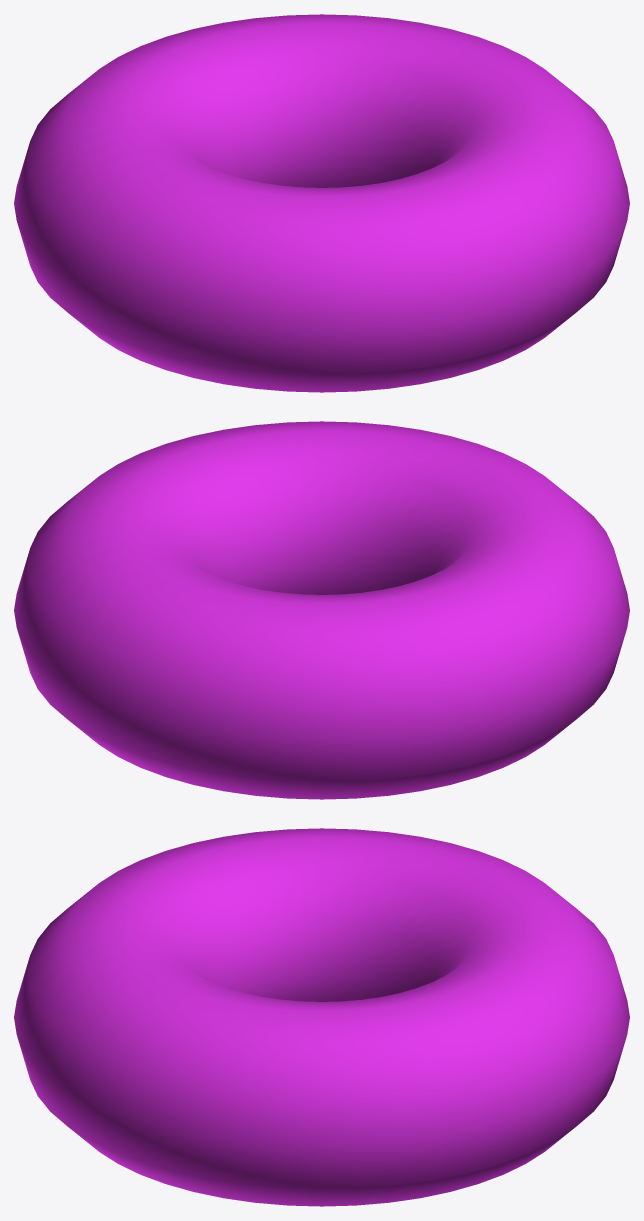
3 views of the same model, one above another, from view 1: azimuth 30°, elevation 25°; view 2: azimuth 150°, elevation 25°; view 3: azimuth 270°, elevation 25° (orthographic).
Parts seen in each view (by area): view 1: Torus.001; view 2: Torus.001; view 3: Torus.001.
Boxes of the visible parts, x1=… form: Torus.001: x1=14, y1=14, x2=629, y2=392; Torus.001: x1=14, y1=421, x2=629, y2=799; Torus.001: x1=14, y1=828, x2=629, y2=1206.
Size of the model in its own units: 3 by 1 by 3.
